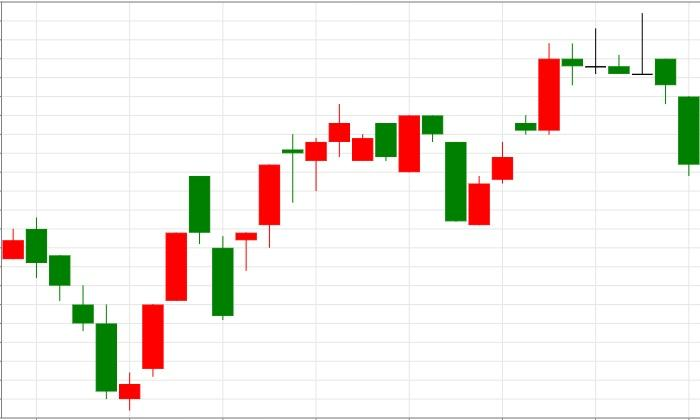three_white_soldiers_rise: (25, 216, 188, 411)
